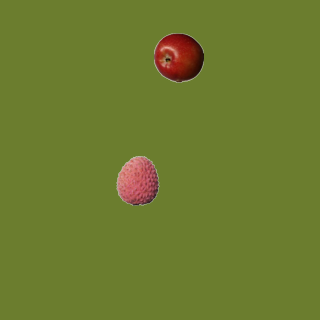Apple Braeburn: (153, 32, 203, 82)
Lychee: (112, 155, 162, 205)
